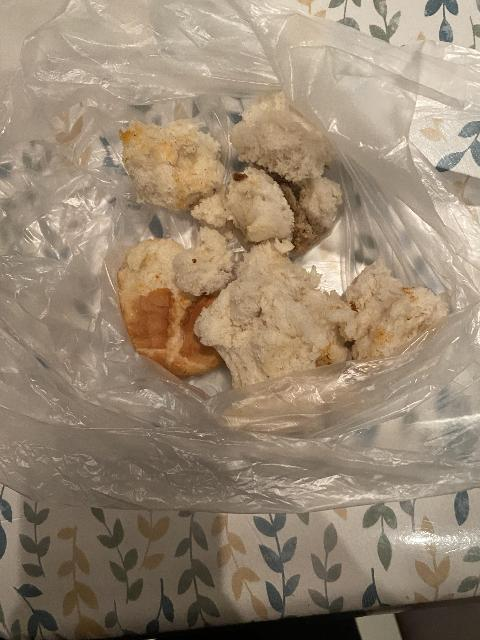Organik: (197, 249, 349, 383), (124, 240, 232, 362), (343, 275, 437, 356), (229, 110, 329, 175), (192, 175, 295, 237), (133, 121, 208, 195), (184, 241, 232, 284), (295, 181, 338, 227)
